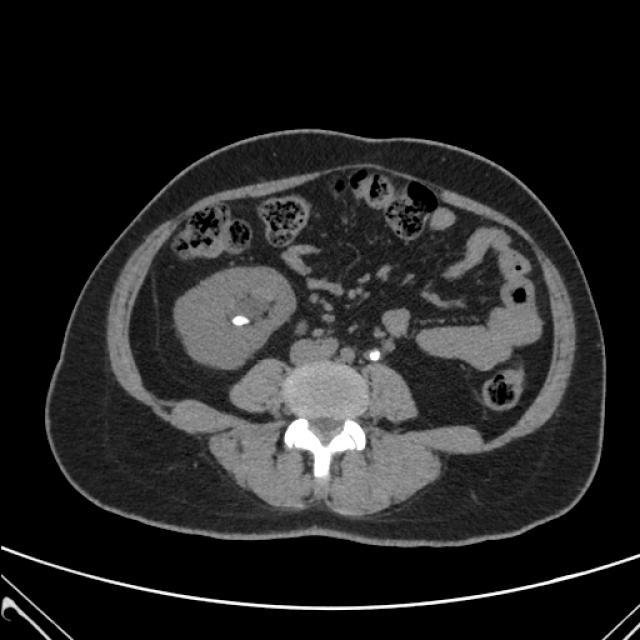kidney: (168, 264, 300, 376), (357, 296, 435, 357)
stone: (224, 305, 256, 332)
